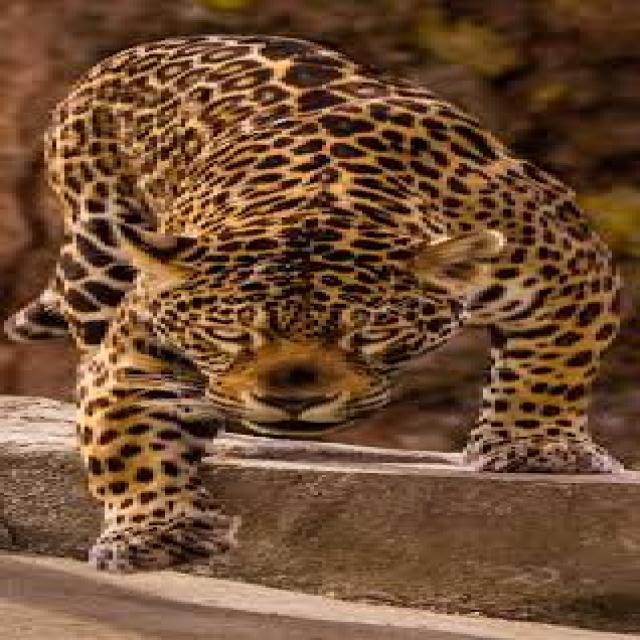Jaguar: (0, 30, 640, 578)
